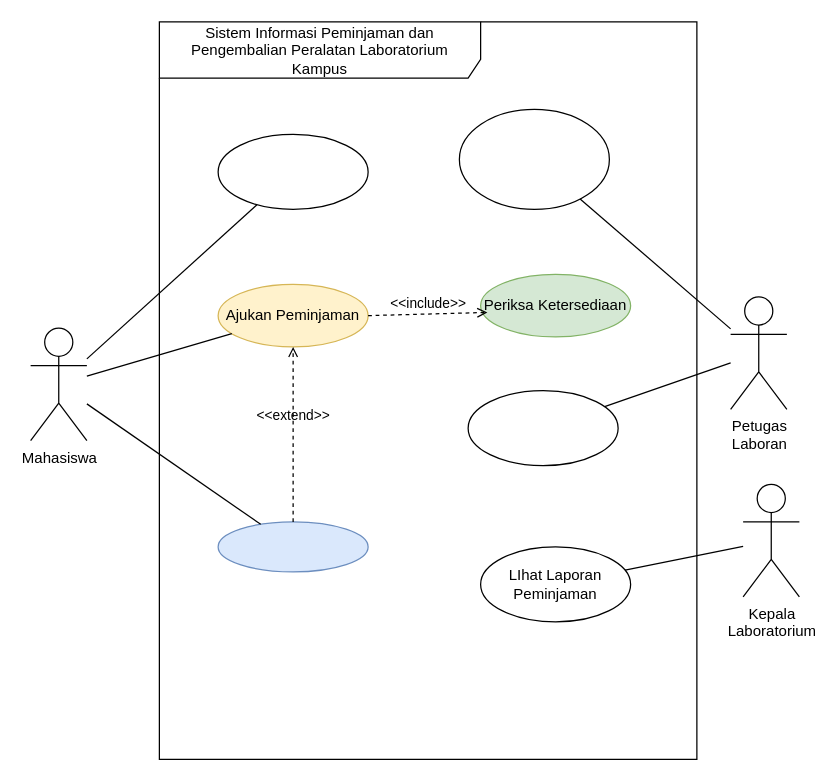
This 838x781 diagram has some shape labels left out. Here are the shapes that lost their labels. From the top down, the centre of each, then its label:
At point 292,171: "Melihat Ketersediaan Peralatan".
At point 533,158: "Kelola Data Peralatan".
At point 542,427: "Proses Keputusan Peminjaman".
At point 292,546: "Catat Bukti Peminjaman".
